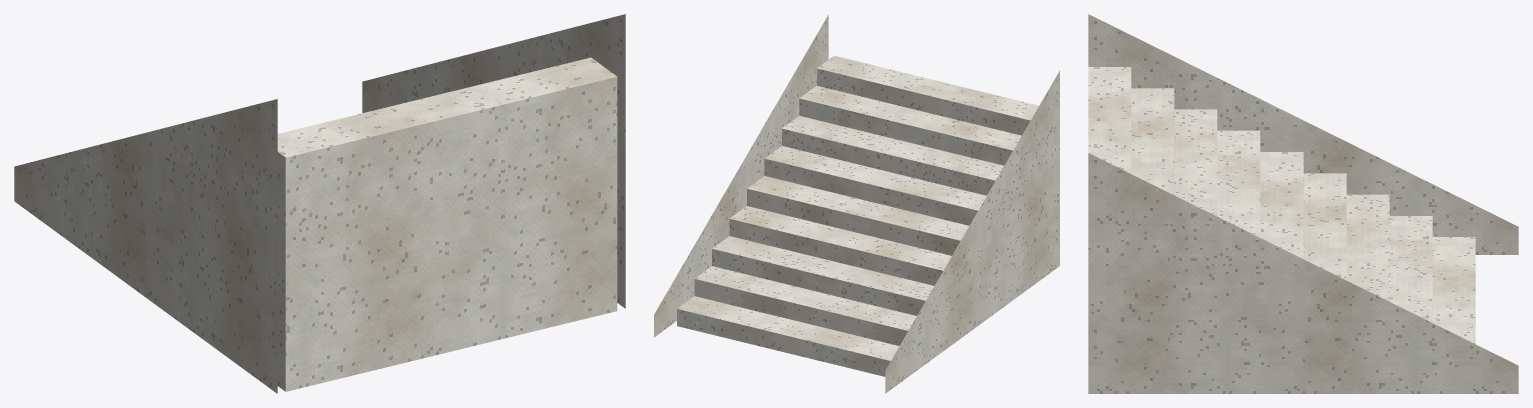
File: escalinata.obj
The picture shows the model from 3 angles, left to right: view 1: azimuth 30°, elevation 25°; view 2: azimuth 150°, elevation 25°; view 3: azimuth 270°, elevation 25°; orthographic projection. The views are drawn at different scales.
Visible parts, largest first — view 1: escalinata; view 2: escalinata; view 3: escalinata.
Part boxes in pixels (x1,y1,x2,y2): escalinata: (14, 14, 625, 393); escalinata: (654, 15, 1059, 393); escalinata: (1088, 14, 1518, 393).
Size of the model in its own units: 4.2 by 3.4 by 5.5.
Materials: 1 (1 with a texture image).
